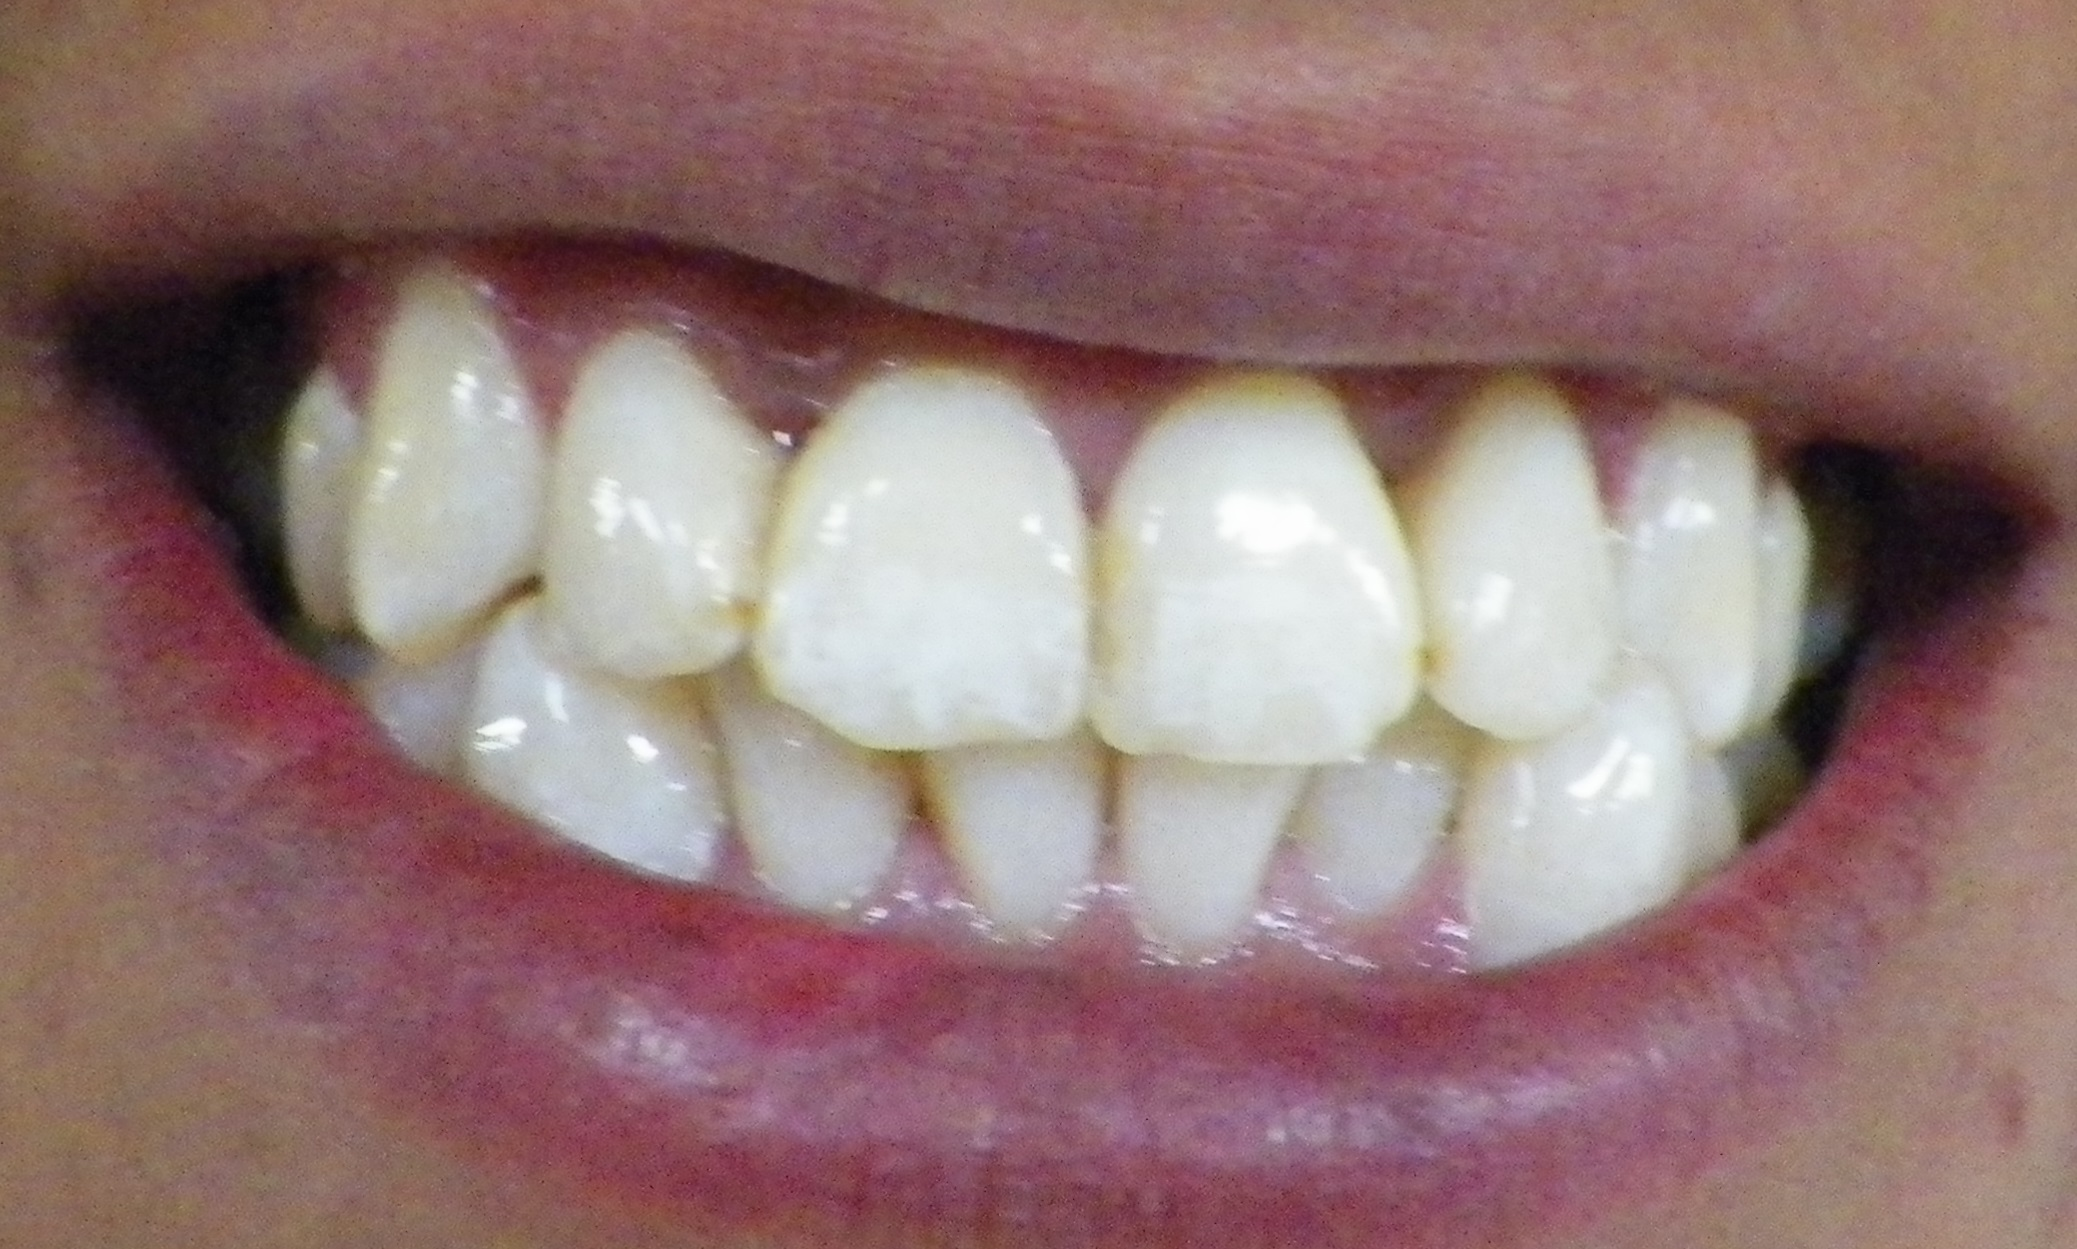boca: (273, 277, 1843, 983)
